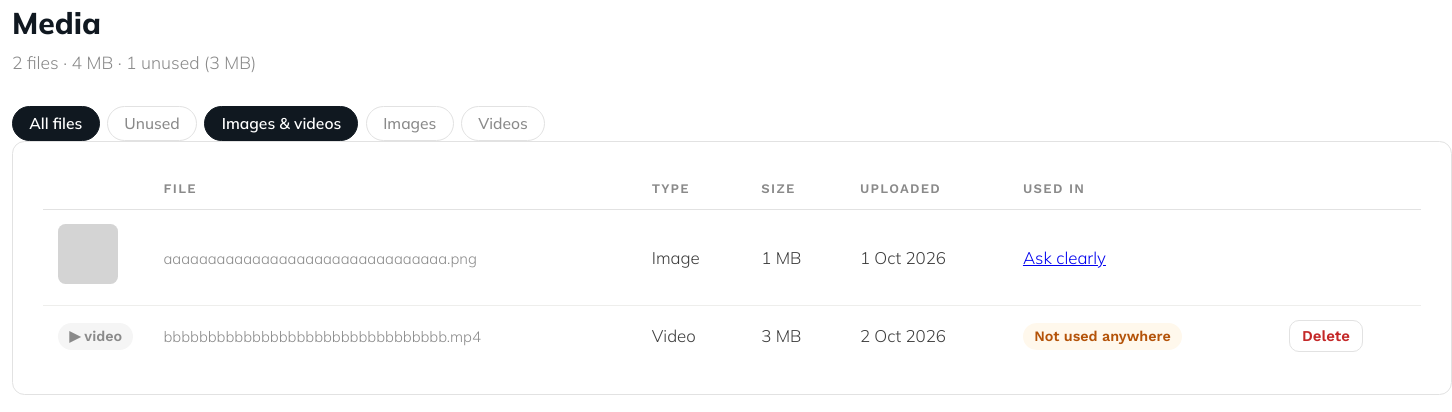
Test: MediaPage › offers delete only on unused files, and filters to unused
The width and height of the screenshot is (1452, 412).
Expected: the link "Ask clearly" is shown, [1023,247,1106,268]
Expected: the number of buttons "Delete" is 1, [1288,320,1363,352]
Click the button "Unused" at [152, 123], box [107,106,197,141]
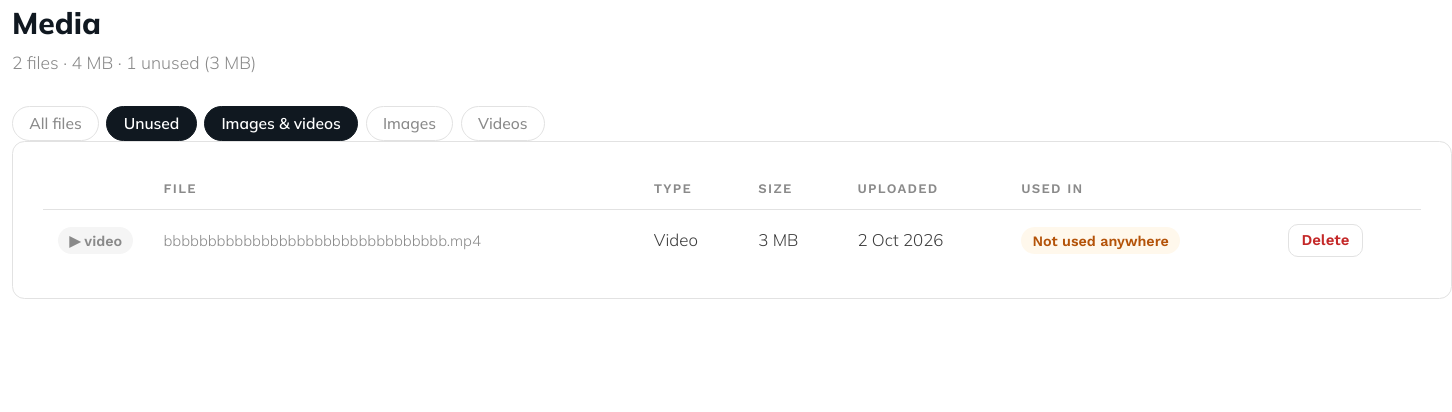
Now the link "Ask clearly" is gone
